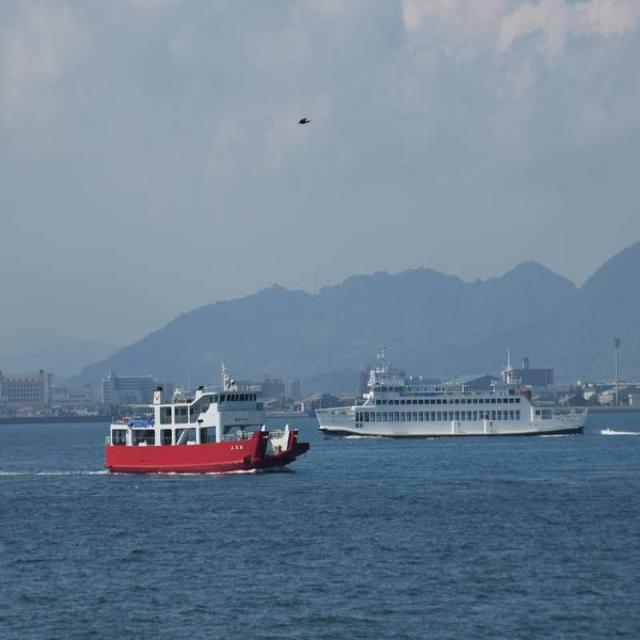houseboat: (93, 382, 307, 486)
passenger ship: (306, 347, 581, 450)
